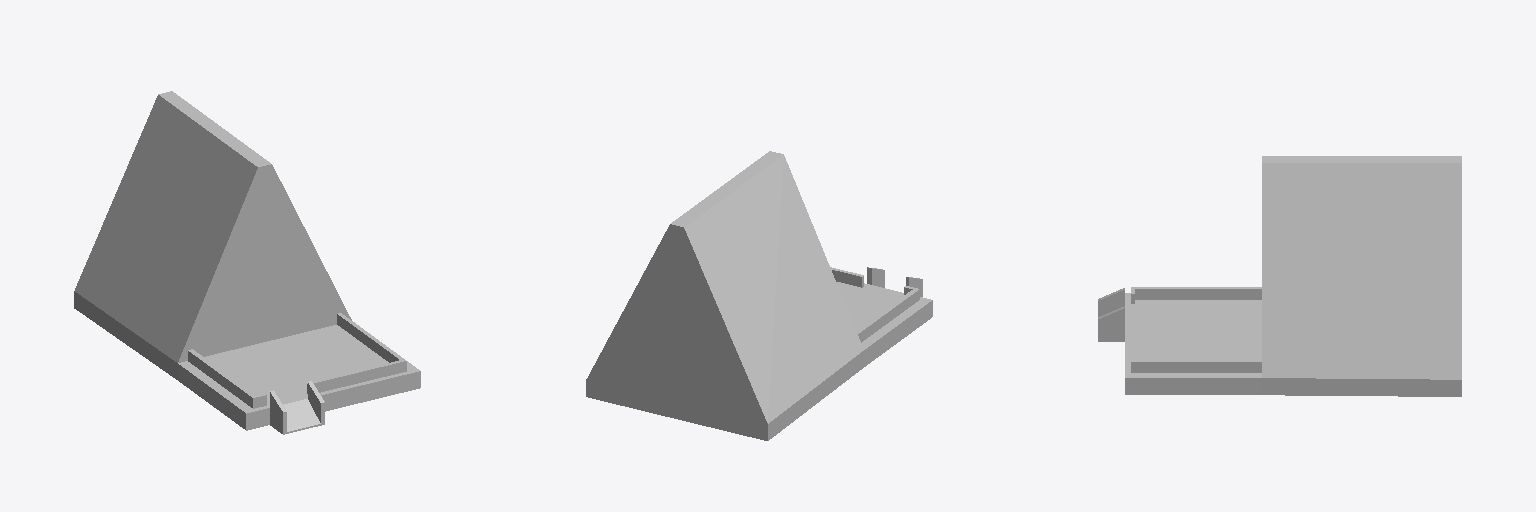
File: house_collider.obj
3 views of the same model, side by side, from view 1: azimuth 30°, elevation 25°; view 2: azimuth 150°, elevation 25°; view 3: azimuth 270°, elevation 25° (orthographic).
Parts seen in each view (by area): view 1: Cube; view 2: Cube; view 3: Cube.
Boxes of the visible parts, x1=… form: Cube: x1=74, y1=91, x2=420, y2=434; Cube: x1=586, y1=151, x2=932, y2=440; Cube: x1=1098, y1=156, x2=1461, y2=396.
Bounding box in the file's own units: 67.85 × 69.09 × 118.